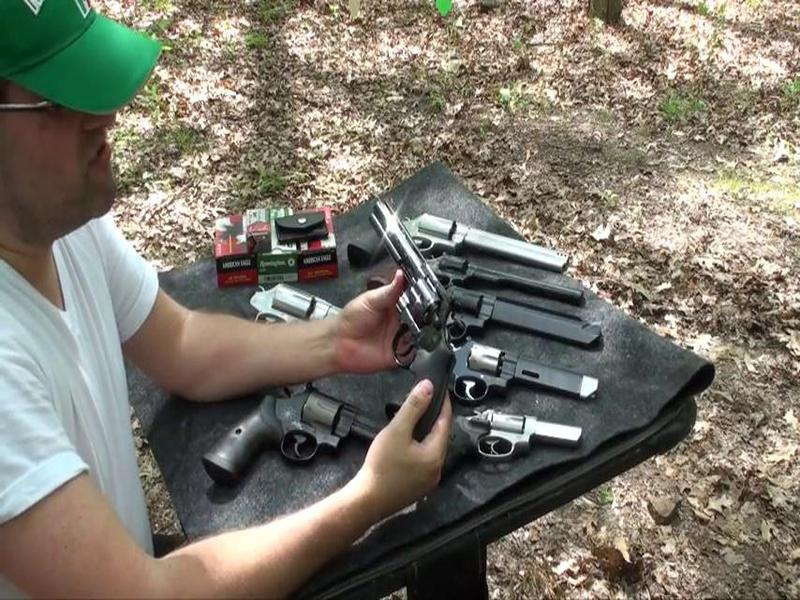Revolver: (342, 189, 468, 438)
